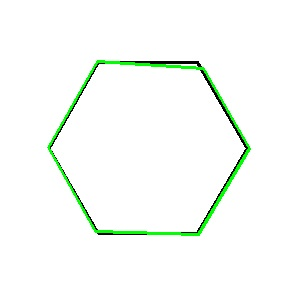line_segment: (48, 60, 250, 236)
